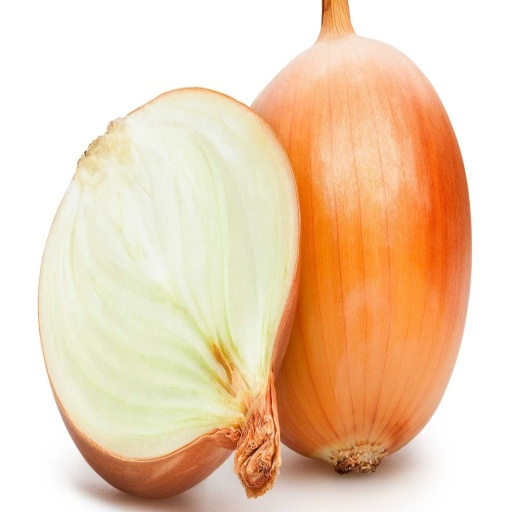Zwiebel: (38, 87, 301, 499), (249, 1, 472, 475)
